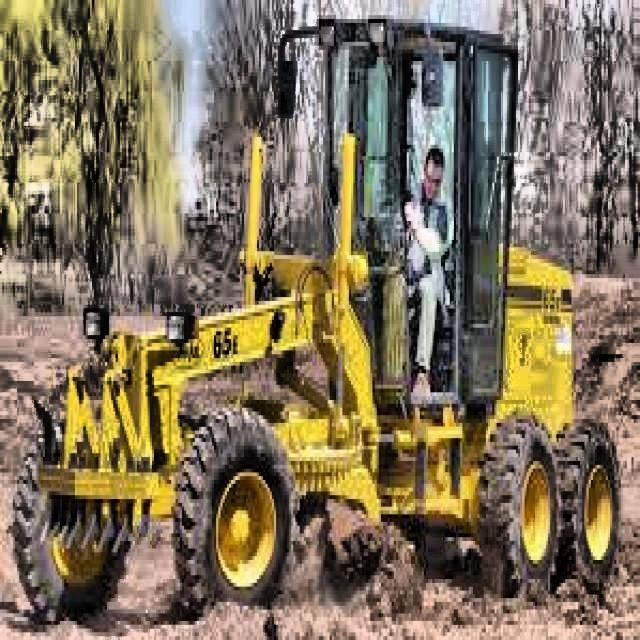bull_dozer/loader/grader: (8, 6, 624, 618)
person: (404, 141, 452, 407)
